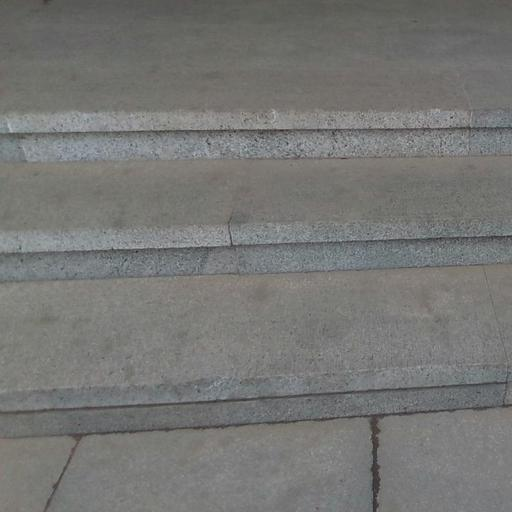stairs: (0, 0, 511, 436)
